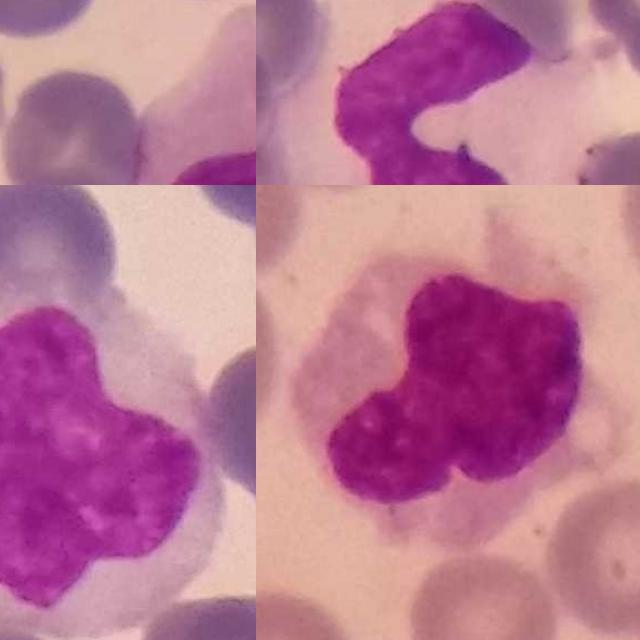Monocyte: (292, 252, 620, 552), (0, 272, 224, 640), (276, 0, 597, 185), (127, 5, 256, 185)
